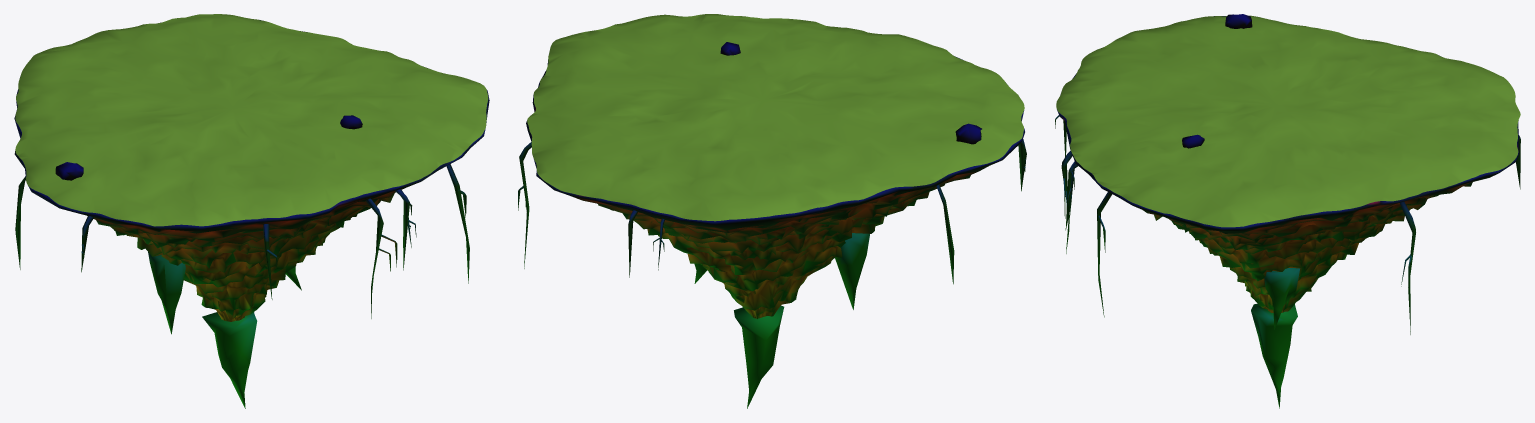
The model's file is SM_FloatingRock_B_L1.glb.
3 renders of one model, left to right at view 1: azimuth 30°, elevation 25°; view 2: azimuth 150°, elevation 25°; view 3: azimuth 270°, elevation 25°, orthographic. The views are drawn at different scales.
Parts seen in each view (by area): view 1: SM_FloatingRock_B; view 2: SM_FloatingRock_B; view 3: SM_FloatingRock_B.
Part boxes in pixels (x1,y1,x2,y2): SM_FloatingRock_B: (14,14,489,408); SM_FloatingRock_B: (518,14,1026,408); SM_FloatingRock_B: (1055,14,1520,408).
Bounding box in the file's own units: 25.33 × 16.83 × 23.54.
